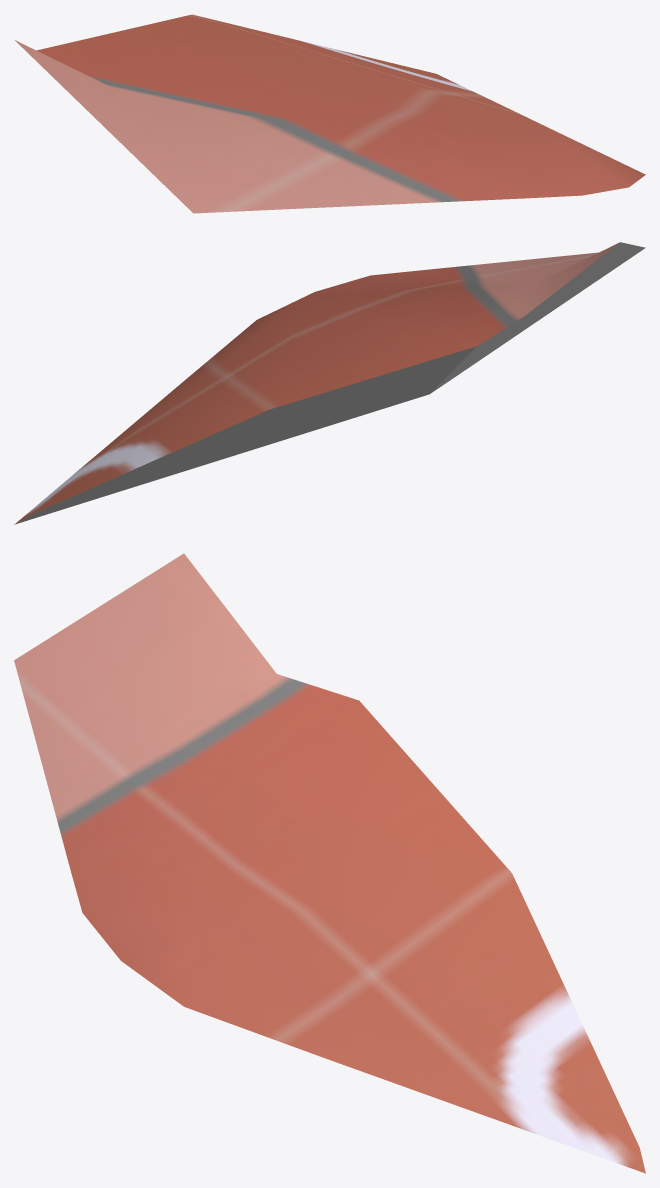
The model's file is MediumVase_SHAT_cell_007.fbx.
The picture shows the model from 3 angles, top to bottom: view 1: azimuth 30°, elevation 25°; view 2: azimuth 150°, elevation 25°; view 3: azimuth 270°, elevation 25°; orthographic projection. The views are drawn at different scales.
Parts seen in each view (by area): view 1: MediumVase_SHAT_cell_007; view 2: MediumVase_SHAT_cell_007; view 3: MediumVase_SHAT_cell_007.
Part boxes in pixels (x1,y1,x2,y2): MediumVase_SHAT_cell_007: (15, 14, 645, 213); MediumVase_SHAT_cell_007: (14, 242, 645, 524); MediumVase_SHAT_cell_007: (14, 553, 645, 1173).
Bounding box in the file's own units: 0.2444 × 0.1407 × 0.2351.
Materials: 2 (1 with a texture image).
